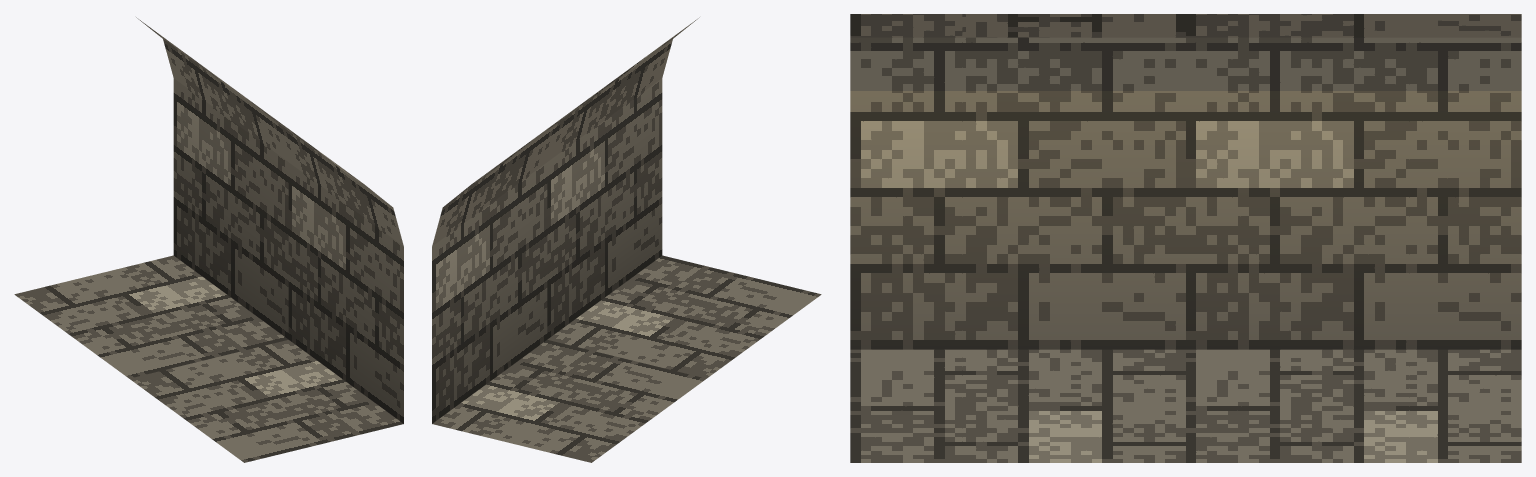
Rendered from arch.corridor.glb.
3 renders of one model, left to right at view 1: azimuth 30°, elevation 25°; view 2: azimuth 150°, elevation 25°; view 3: azimuth 270°, elevation 25°, orthographic. The views are drawn at different scales.
Visible parts, largest first — view 1: kit_shell_corridor_walls, kit_shell_corridor_floor; view 2: kit_shell_corridor_walls, kit_shell_corridor_floor; view 3: kit_shell_corridor_walls, kit_shell_corridor_floor.
Part boxes in pixels (x1,y1,x2,y2): kit_shell_corridor_walls: (136,17,403,423); kit_shell_corridor_floor: (14,255,403,462); kit_shell_corridor_walls: (432,17,699,423); kit_shell_corridor_floor: (432,255,821,462); kit_shell_corridor_walls: (850,14,1521,349); kit_shell_corridor_floor: (850,349,1521,462).
Size of the model in its own units: 1.6 by 2.5 by 4.
1 material, 1 textured.
